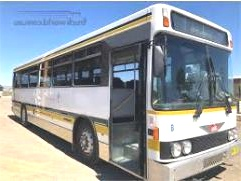bus: (14, 4, 237, 177)
